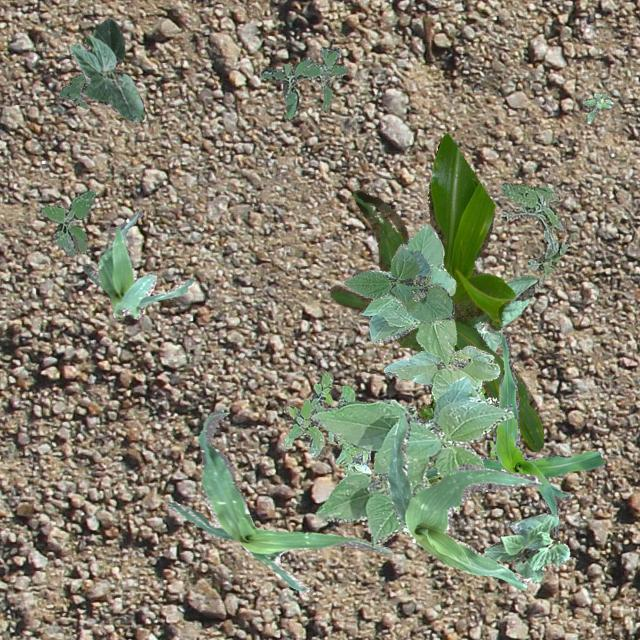crop: (330, 132, 542, 450), (166, 408, 392, 592), (424, 330, 604, 536), (310, 376, 512, 546), (359, 223, 498, 427), (386, 412, 540, 588), (82, 210, 192, 318), (342, 242, 453, 320), (68, 17, 144, 122), (482, 512, 568, 582), (472, 274, 538, 352)
weed: (282, 370, 371, 474), (416, 384, 496, 484), (500, 182, 572, 284), (260, 45, 346, 118), (39, 188, 94, 256), (58, 72, 88, 108), (582, 92, 612, 122)
